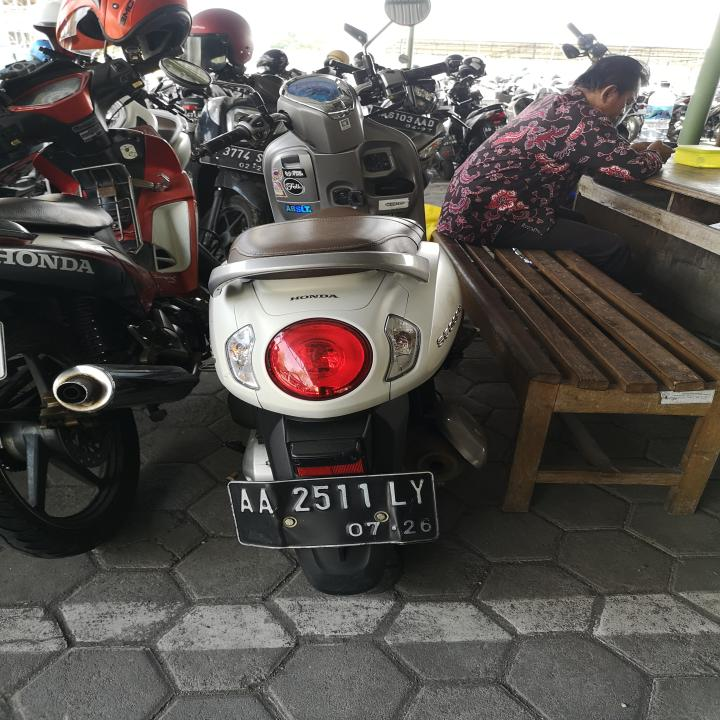plate: (221, 476, 452, 546), (199, 139, 269, 174), (367, 105, 439, 137)
